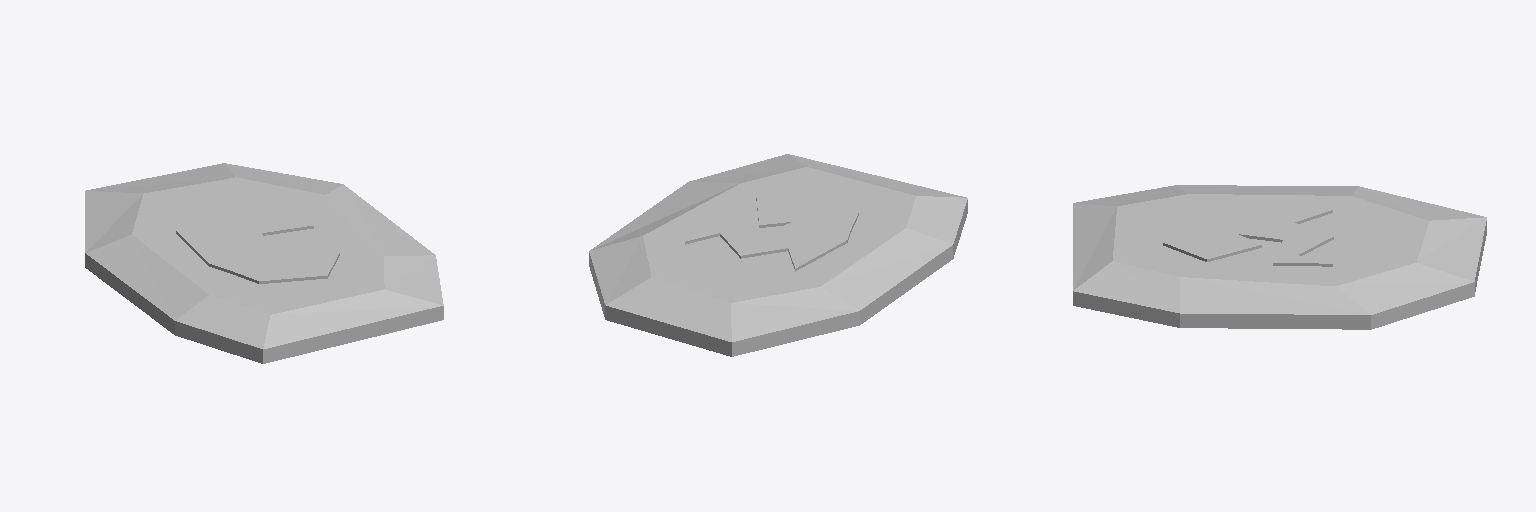
File: ruin-fire.obj
The picture shows the model from 3 angles: view 1: azimuth 30°, elevation 25°; view 2: azimuth 150°, elevation 25°; view 3: azimuth 270°, elevation 25°; orthographic projection.
Visible parts, largest first — view 1: ruin_Cylinder; view 2: ruin_Cylinder; view 3: ruin_Cylinder.
Boxes of the visible parts, box(x1,y1,x2,y2) form: ruin_Cylinder: box(85, 163, 443, 363); ruin_Cylinder: box(589, 154, 967, 356); ruin_Cylinder: box(1073, 185, 1486, 329).
Size of the model in its own units: 19.12 by 2.73 by 25.77.